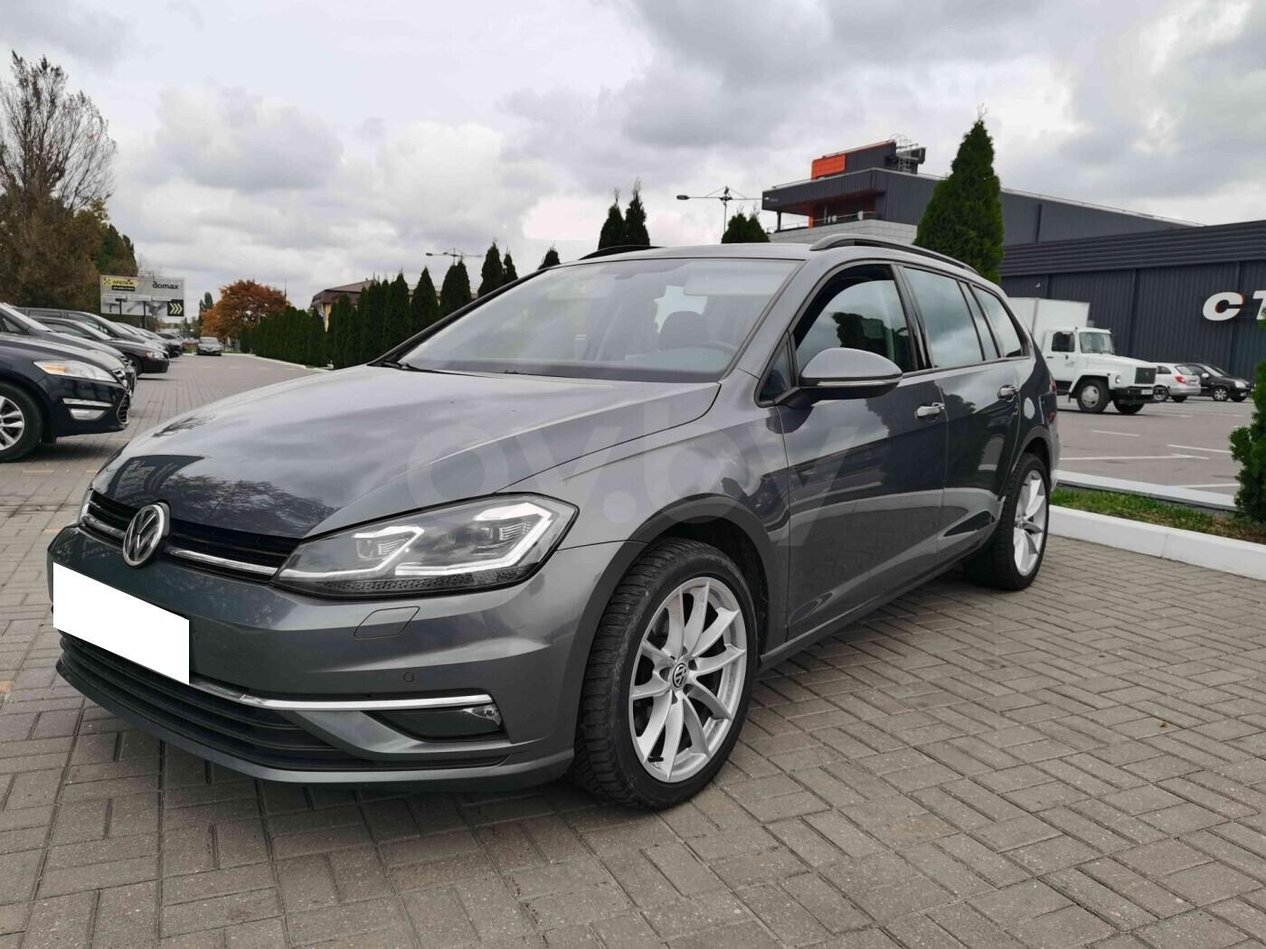Golf_2017-2021: (36, 230, 1066, 807)
